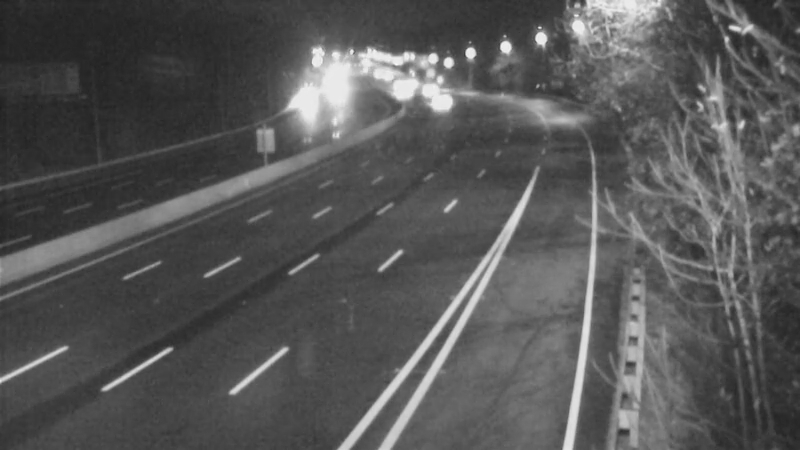vehicle: (407, 61, 457, 111), (376, 66, 426, 116), (416, 75, 466, 125)
